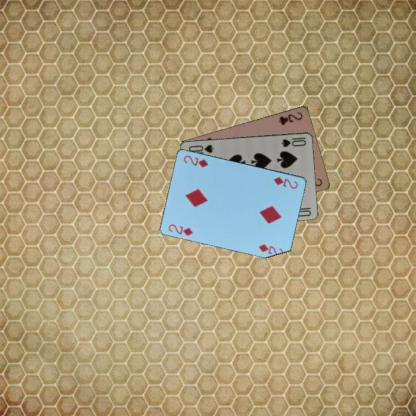10s: (279, 136, 307, 148)
2c: (276, 109, 305, 126)
2d: (271, 174, 299, 190), (166, 221, 194, 237)
